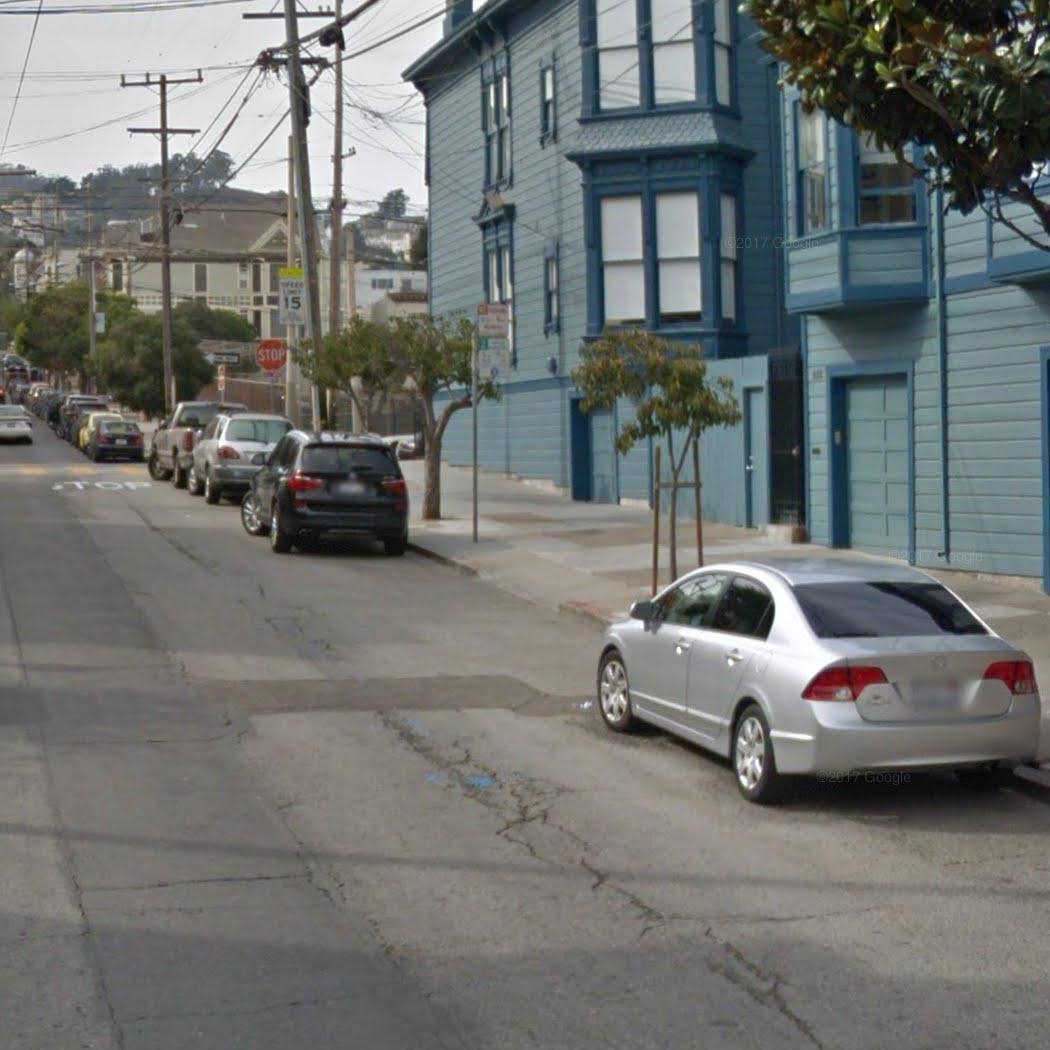2 Hour Parking: (471, 335, 517, 385)
No Parking: (476, 300, 515, 343)
